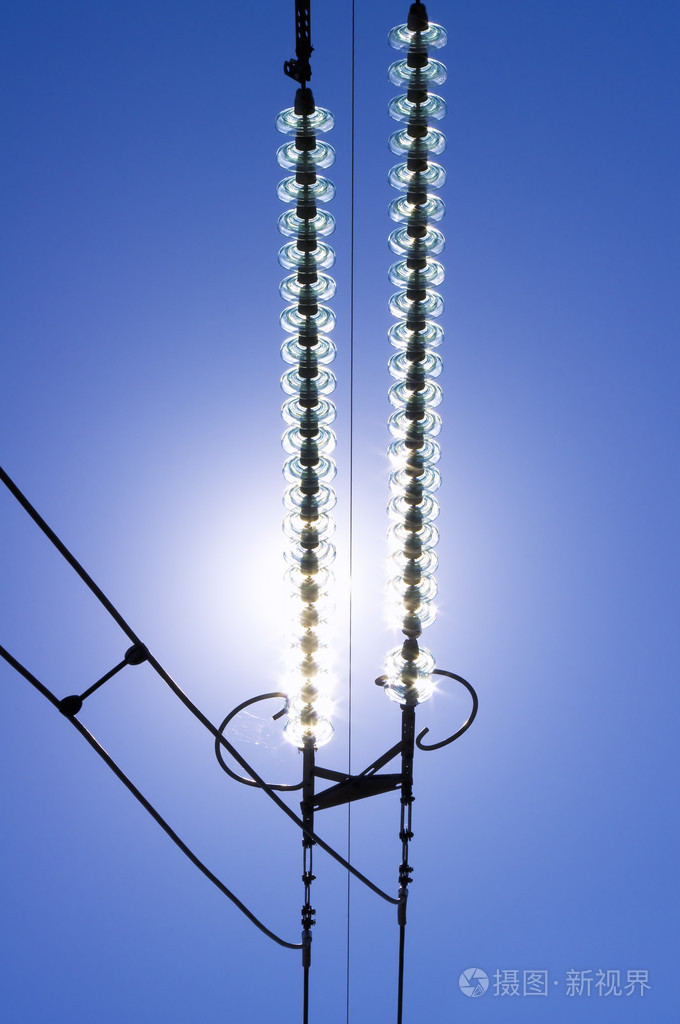insulator: (383, 21, 449, 708), (276, 104, 339, 753)
